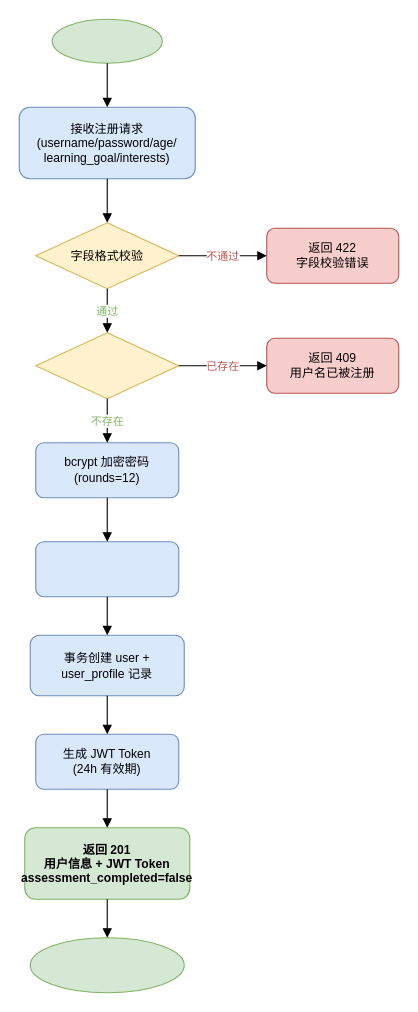
Image size: 418x1012. Some labels were removed from this diagram. Each missing label, with the centre of its shape:
"年龄自动归类 (子功能3 → age_group)" goes at point (107, 569).
"开始" goes at point (106, 40).
"查询用户名唯一性" goes at point (107, 365).
"结束（触发子功能6 强制跳转测评）" goes at point (106, 965).
